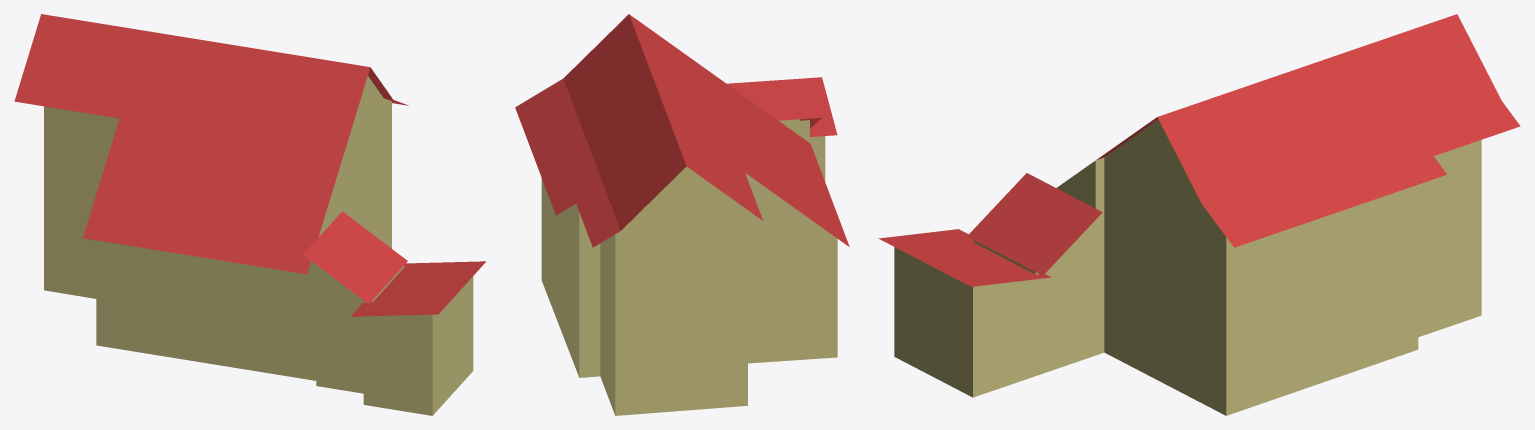
3 renders of one model, left to right at view 1: azimuth 30°, elevation 25°; view 2: azimuth 150°, elevation 25°; view 3: azimuth 270°, elevation 25°, orthographic. The views are drawn at different scales.
Size of the model in its own units: 18.19 by 28.37 by 13.19.
